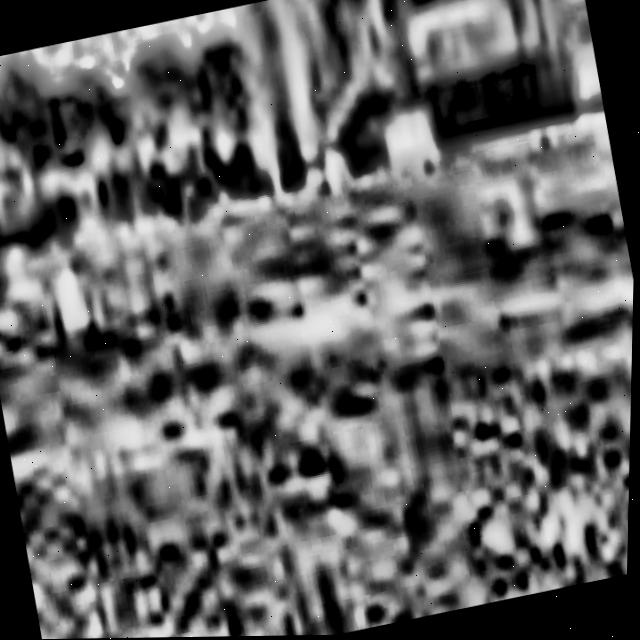dump_truck: (210, 0, 613, 218)
